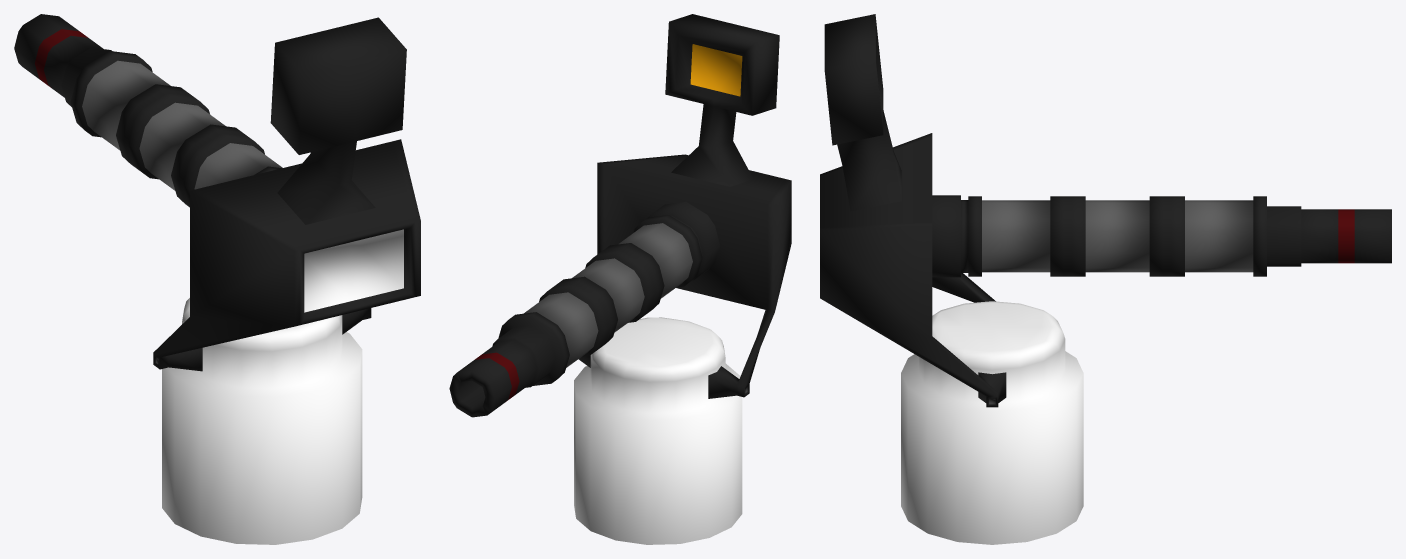
The model's file is Warsaw Turret Gun.obj.
3 views of the same model, side by side, from view 1: azimuth 30°, elevation 25°; view 2: azimuth 150°, elevation 25°; view 3: azimuth 270°, elevation 25° (orthographic). The views are drawn at different scales.
Parts seen in each view (by area): view 1: Warsaw_Turret_Gun_Cube.002; view 2: Warsaw_Turret_Gun_Cube.002; view 3: Warsaw_Turret_Gun_Cube.002.
Part boxes in pixels (x1,y1,x2,y2): Warsaw_Turret_Gun_Cube.002: [14, 14, 420, 544]; Warsaw_Turret_Gun_Cube.002: [449, 14, 791, 544]; Warsaw_Turret_Gun_Cube.002: [820, 14, 1391, 544].
Size of the model in its own units: 0.5174 by 1.22 by 1.34.
